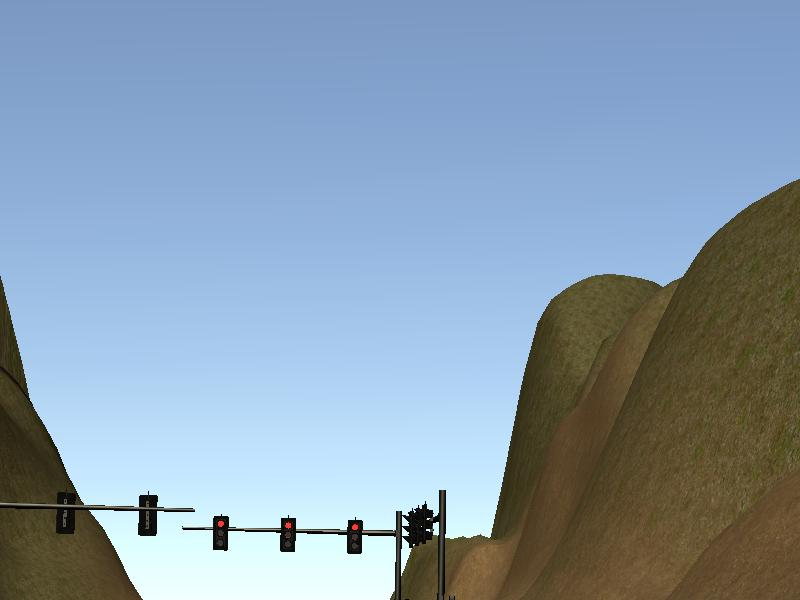Red: (212, 514, 228, 549), (280, 516, 295, 551), (348, 520, 363, 552)
